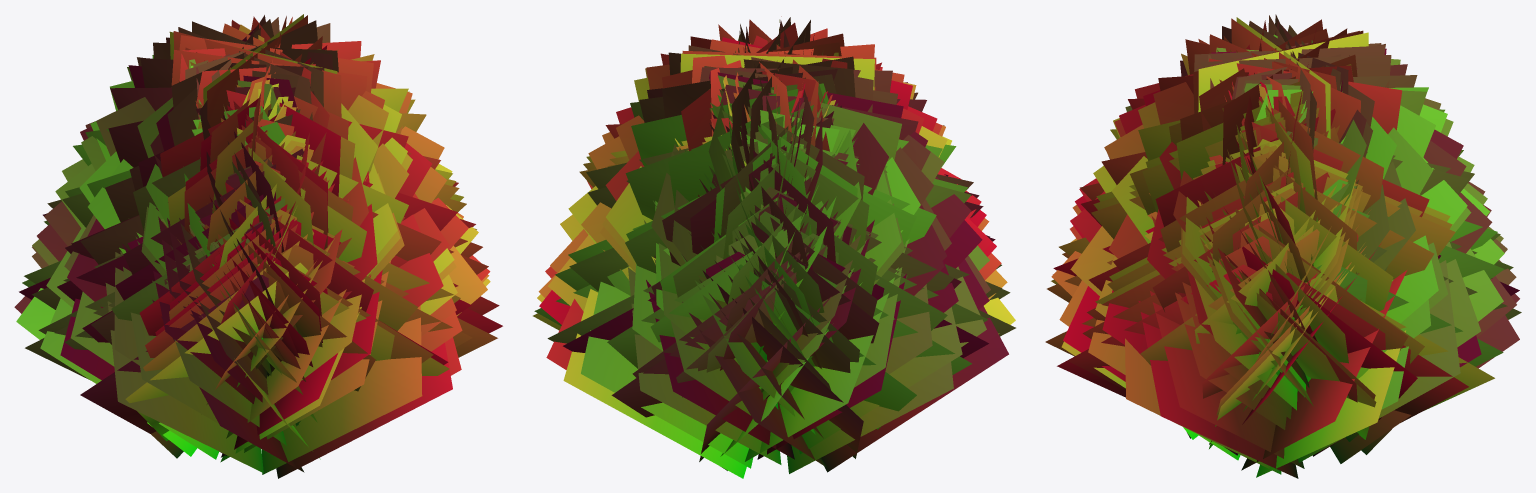
The model's file is URP_P4_Tree_5_LOD_3.fbx.
3 renders of one model, left to right at view 1: azimuth 30°, elevation 25°; view 2: azimuth 150°, elevation 25°; view 3: azimuth 270°, elevation 25°, orthographic.
Parts seen in each view (by area): view 1: Tree_5_LOD_3; view 2: Tree_5_LOD_3; view 3: Tree_5_LOD_3.
Boxes of the visible parts, x1,y1,x2,y2 form: Tree_5_LOD_3: (14, 14, 502, 478); Tree_5_LOD_3: (533, 16, 1015, 478); Tree_5_LOD_3: (1045, 14, 1521, 478).
Bounding box in the file's own units: 209 × 189 × 209.
